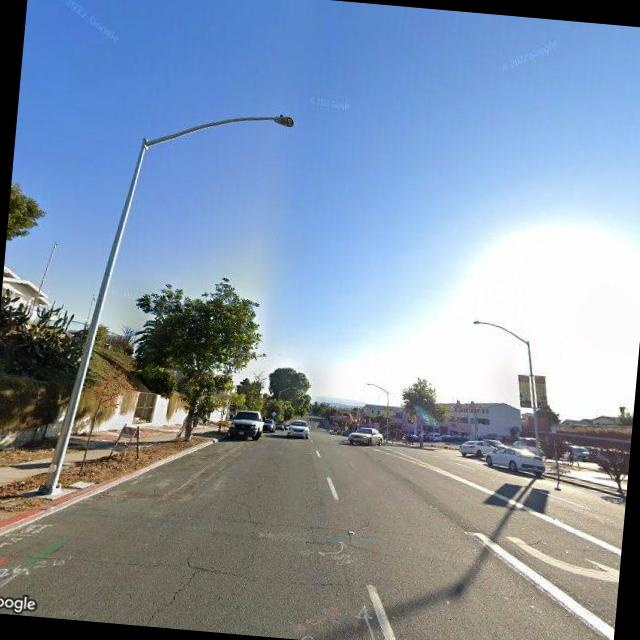crack: (130, 558, 200, 629)
